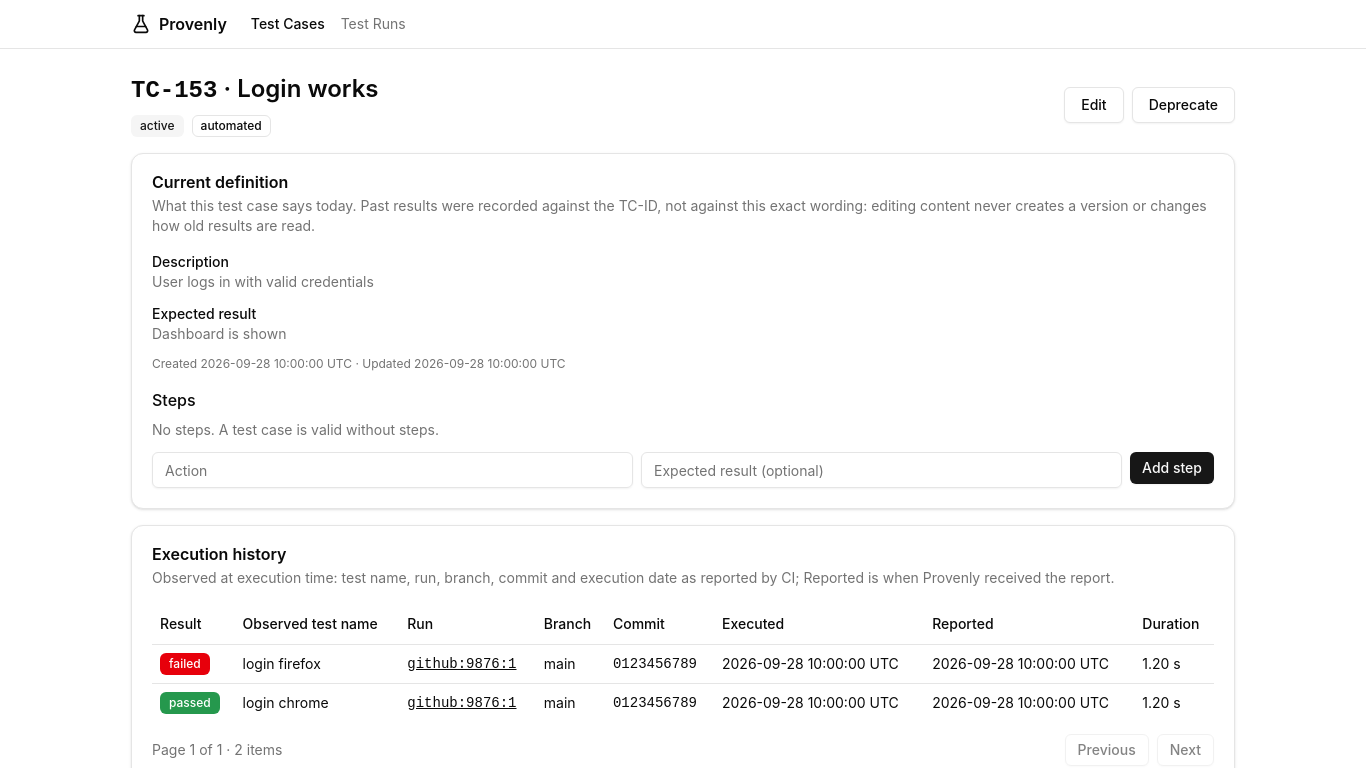
FE-INT-006 steps management › FE-INT-006 shows the empty state and step errors
Expected: the text "No steps. A test case is valid without steps." is shown, 152,421 -> 439,438
In the field named "Step action": coordinates (392, 470) 152,452 -> 633,488, type "x"
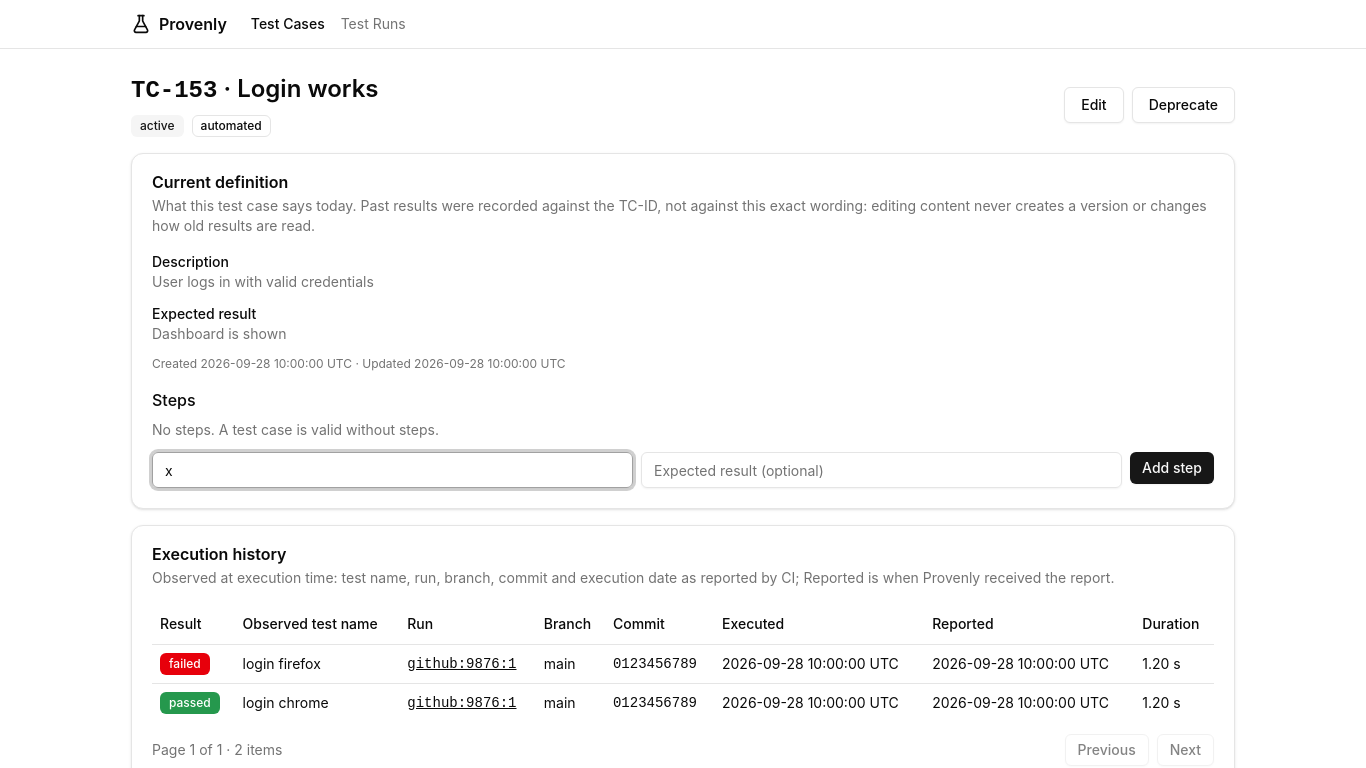
Click the button "Add step": coordinates (1172, 468) 1130,452 -> 1214,484
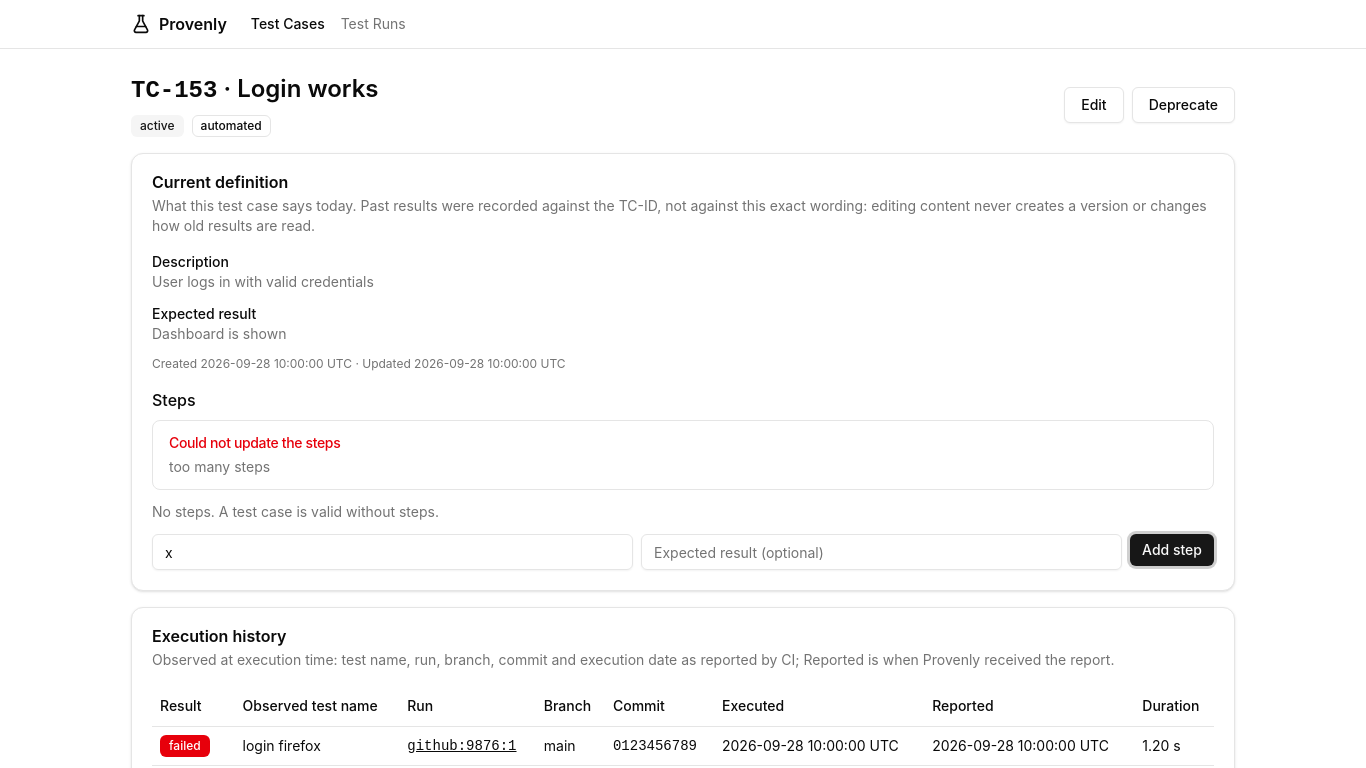
Now the text "Could not update the steps" is shown, box 169,434 -> 340,451
Now the message shows "too many steps", box 169,458 -> 270,475
